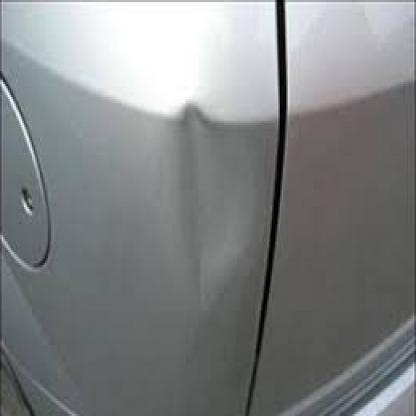dent: (156, 92, 252, 300)
